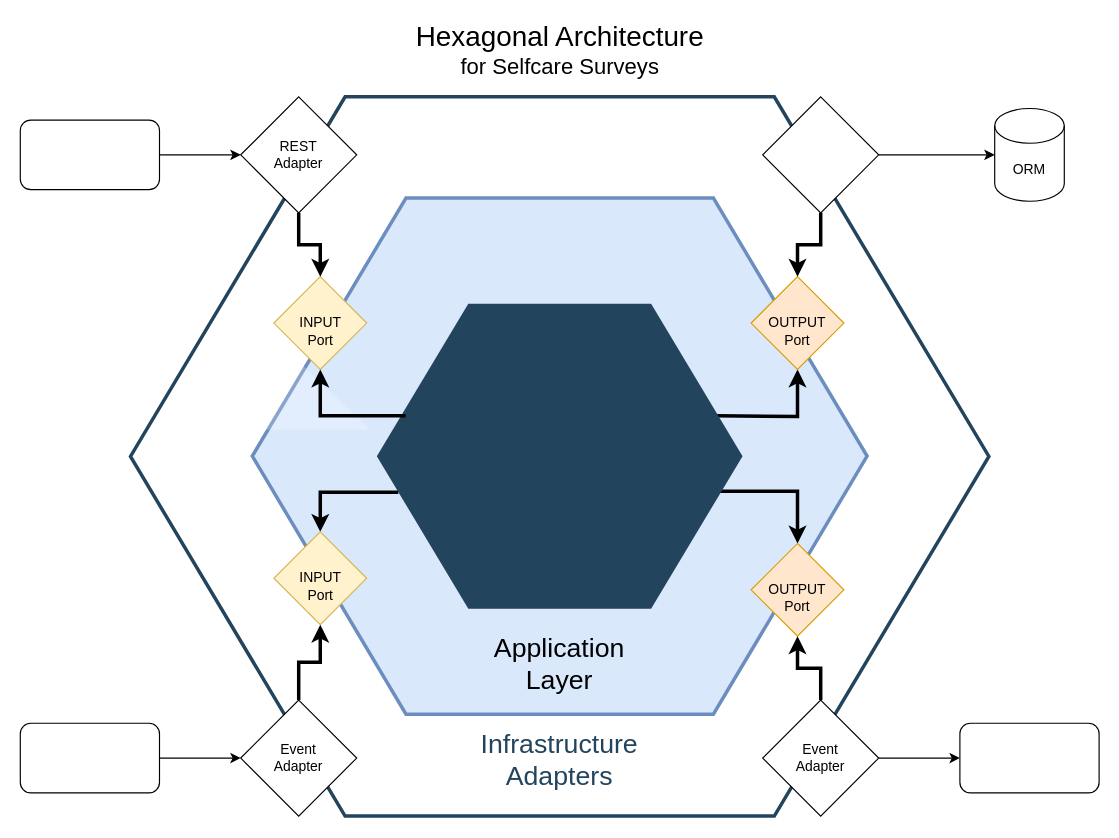
The diagram is 1119 pixels wide and 838 high, and some of its shapes have lost their labels. The centre of each missing label's shape, as x and y in pixels:
Domain Model: (559,455)
EVENT Consumer: (1029,757)
EVENT Producer: (89,757)
Persistance Adapter: (820,154)
REST Client: (89,154)
